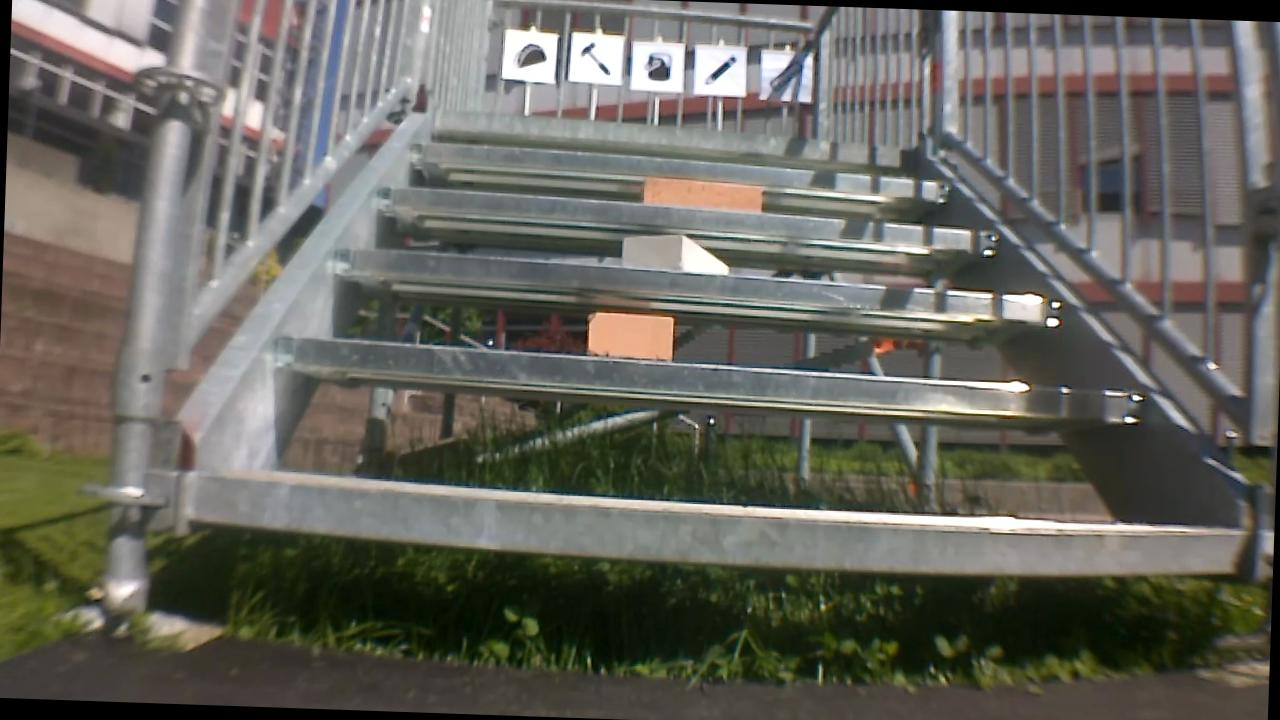brick: (620, 231, 736, 274), (581, 313, 679, 358), (640, 176, 769, 209)
edge: (189, 483, 1264, 590), (255, 340, 1159, 409), (313, 249, 1068, 318), (357, 185, 1016, 253), (403, 138, 957, 194), (430, 115, 921, 155)
stairs: (155, 99, 1273, 579)
